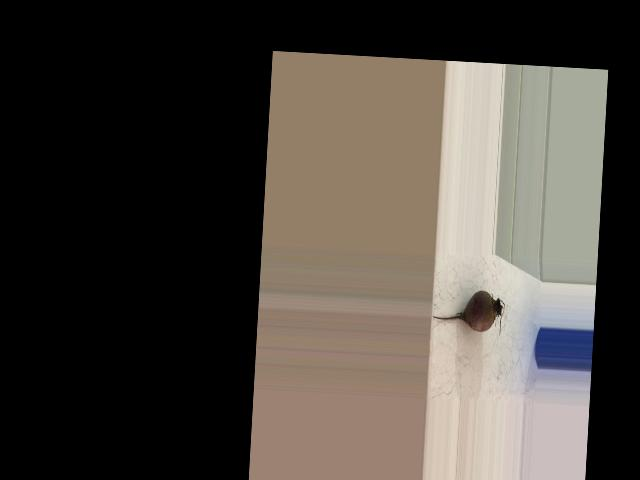beet: (431, 288, 505, 336)
